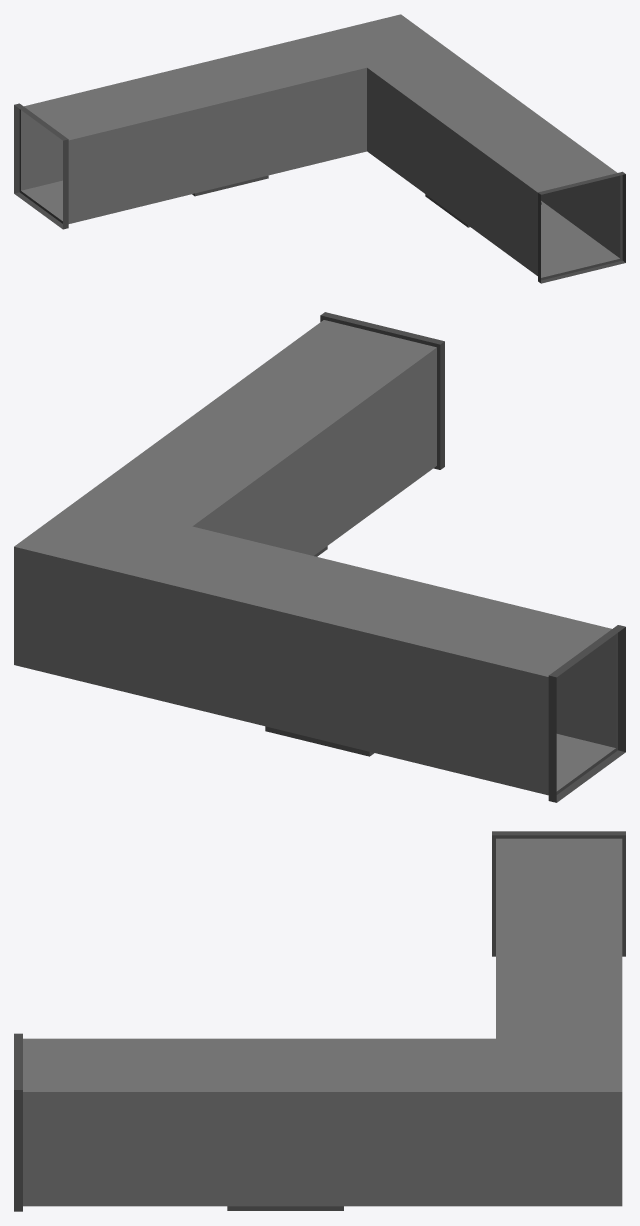
The model's file is WallDecor_08.fbx.
3 views of the same model, one above another, from view 1: azimuth 30°, elevation 25°; view 2: azimuth 150°, elevation 25°; view 3: azimuth 270°, elevation 25° (orthographic). The views are drawn at different scales.
Parts seen in each view (by area): view 1: WallDecor_08; view 2: WallDecor_08; view 3: WallDecor_08.
Part boxes in pixels (x1,y1,x2,y2): WallDecor_08: [14, 14, 625, 283]; WallDecor_08: [14, 312, 625, 802]; WallDecor_08: [14, 831, 625, 1211].
Bounding box in the file's own units: 281 × 63.09 × 281.
